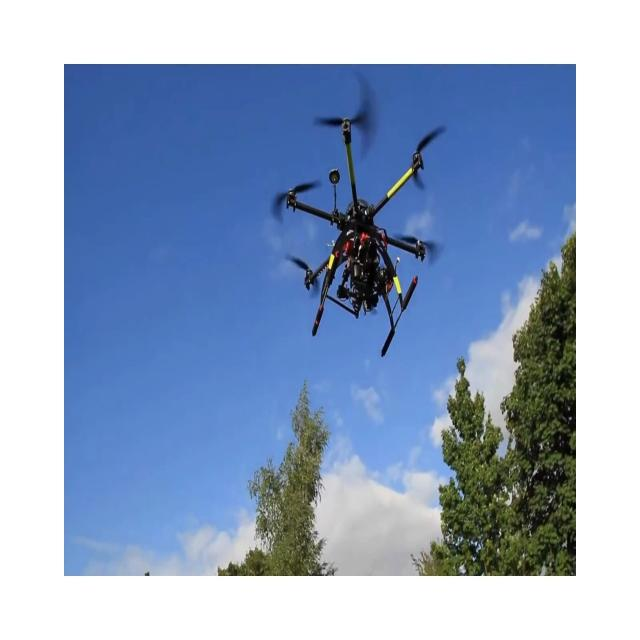drone: (274, 80, 446, 358)
